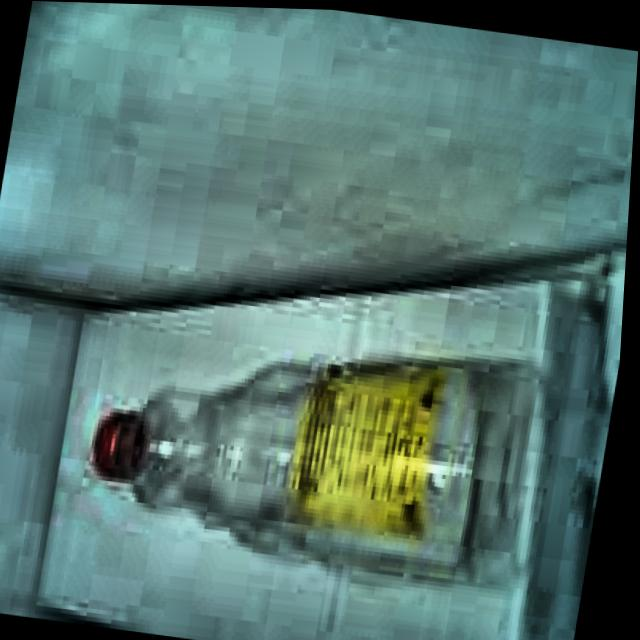Bottles: (65, 290, 614, 592)
